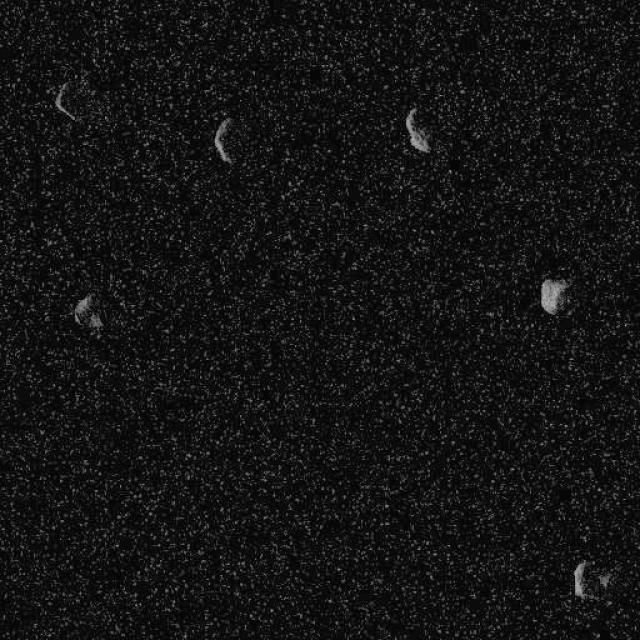D2: (571, 559, 611, 600), (404, 106, 431, 154), (539, 276, 570, 315), (73, 291, 104, 330), (213, 115, 235, 165), (52, 80, 78, 122)
